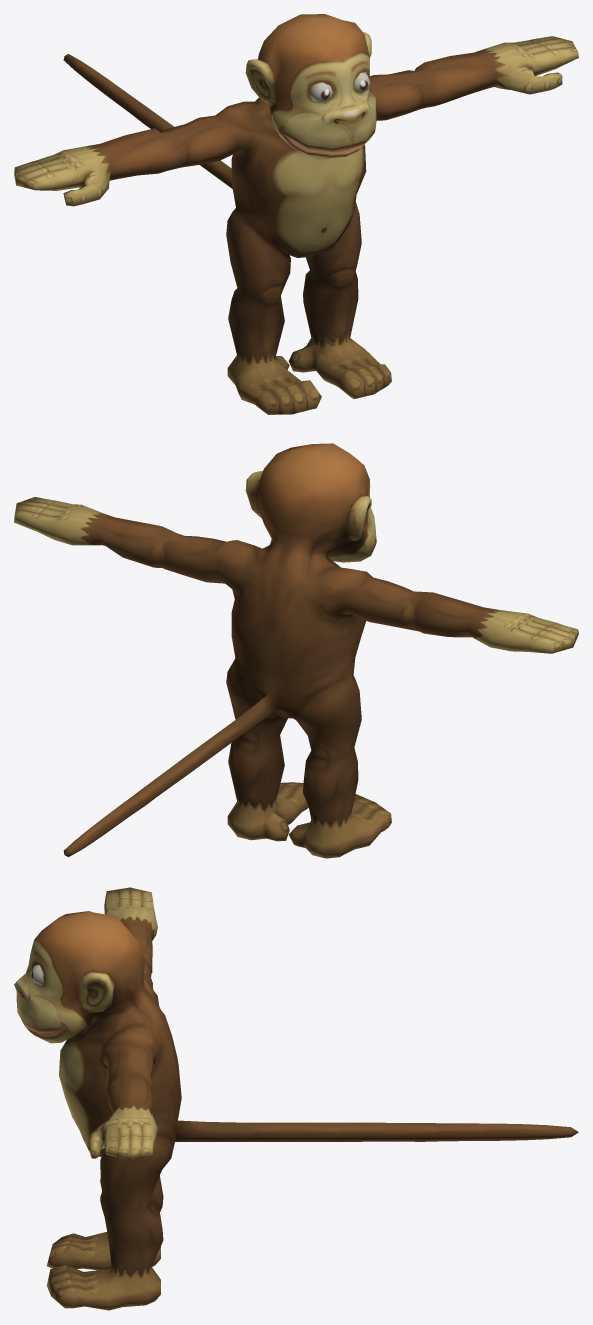
The model's file is monkey.dae.
3 views of the same model, one above another, from view 1: azimuth 30°, elevation 25°; view 2: azimuth 150°, elevation 25°; view 3: azimuth 270°, elevation 25° (orthographic). The views are drawn at different scales.
Visible parts, largest first — view 1: monkey; view 2: monkey; view 3: monkey.
Part boxes in pixels (x1,y1,x2,y2): monkey: (14, 14, 578, 414); monkey: (14, 443, 578, 858); monkey: (14, 887, 578, 1310).
Bounding box in the file's own units: 160 × 144 × 102.
Materials: 1 (1 with a texture image).
